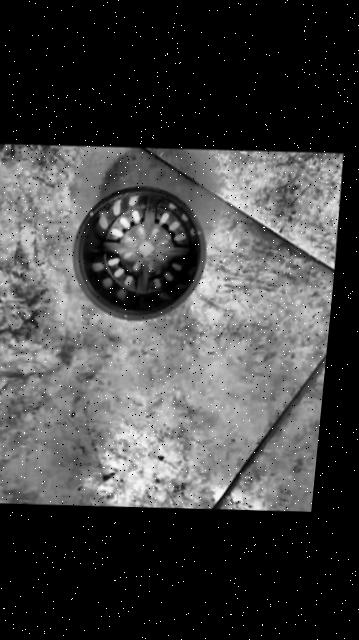pot: (63, 182, 209, 324)
